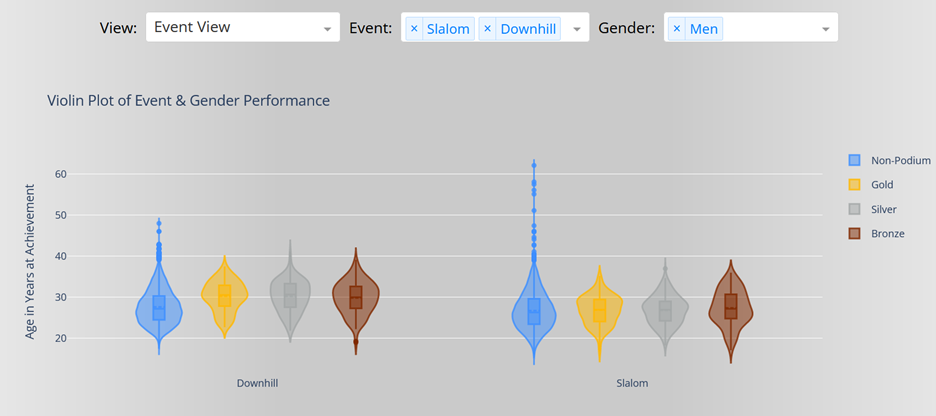

What the dashboard file says about the page in this screenshot:
{"tool":"tableau","page":{"name":"Dashboard 1","canvas":[1000,1000],"units":"permille","ordinal":0},"visuals":[{"type":"worksheet","title":"Sheet 1","mark":"Automatic","box":[2.1,4.2,888.5,991.5]},{"type":"filter","title":"Sheet 1","param":"[federated.146amrn0jlxjl911misc91clc58j].[none:Medal:ok]","box":[890.6,4.2,107.3,47.2]},{"type":"filter","title":"Sheet 1","param":"[federated.146amrn0jlxjl911misc91clc58j].[none:USOC Master Competition Set Name:","box":[890.6,51.4,107.3,150.1]},{"type":"legend","title":"Sheet 1","param":"[federated.146amrn0jlxjl911misc91clc58j].[cnt:Medal:qk]","box":[890.6,201.5,107.3,43]},{"type":"filter","title":"Sheet 1","param":"[federated.146amrn0jlxjl911misc91clc58j].[none:Event Gender:nk]","box":[890.6,244.4,107.3,64.2]},{"type":"filter","title":"Sheet 1","param":"[federated.146amrn0jlxjl911misc91clc58j].[none:Event Name Short:nk]","box":[890.6,308.6,107.3,121.4]}]}

Visuals, with their boxes on the dashboard's canvas, which has no fixed pixel size, in thousandths of its width and height (x1, y1, x2, y2). These are canvas units, not pixel positions in the 936x416 screenshot, which may show the page scaled, cropped or inside an application window:
"Sheet 1" worksheet: l=2, t=4, r=891, b=996
"Sheet 1" filter: l=891, t=4, r=998, b=51
"Sheet 1" filter: l=891, t=51, r=998, b=202
"Sheet 1" legend: l=891, t=202, r=998, b=244
"Sheet 1" filter: l=891, t=244, r=998, b=309
"Sheet 1" filter: l=891, t=309, r=998, b=430
